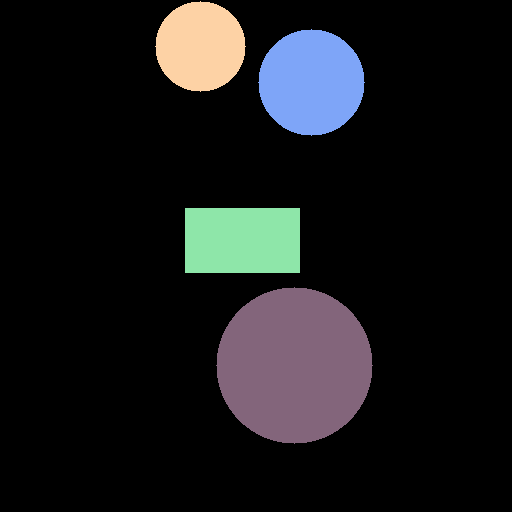circle: (216, 287, 372, 443), (258, 29, 364, 135), (155, 1, 245, 91)
rectangle: (185, 208, 299, 272)
